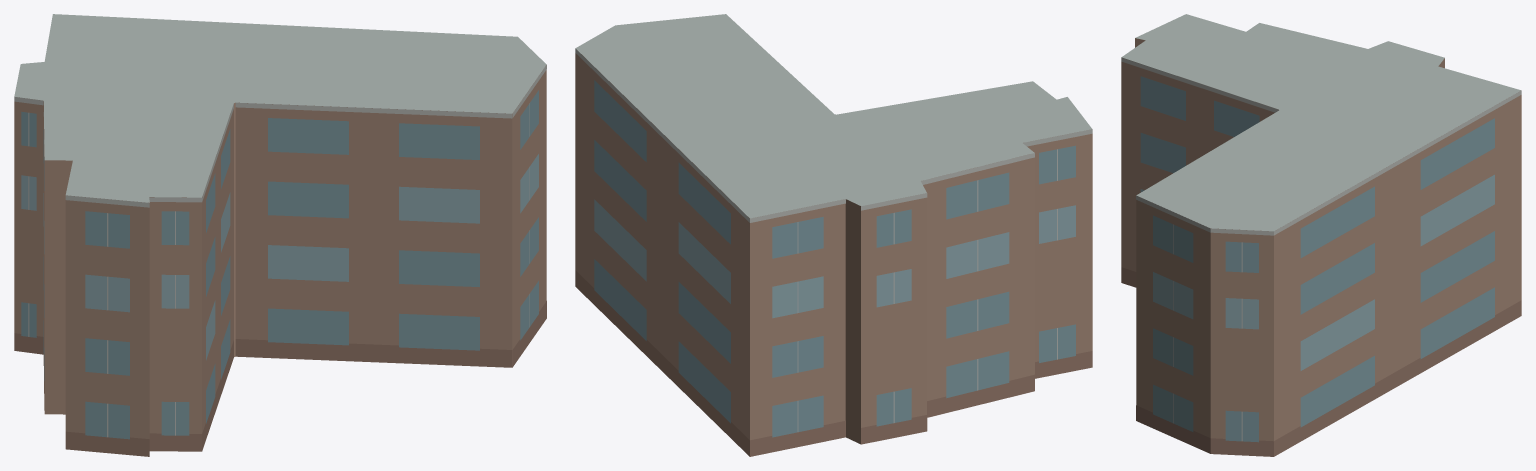
Rendered from survey-upis-32874314.glb.
The picture shows the model from 3 angles, left to right: view 1: azimuth 30°, elevation 25°; view 2: azimuth 150°, elevation 25°; view 3: azimuth 270°, elevation 25°; orthographic projection. The views are drawn at different scales.
Visible parts, largest first — view 1: survey-upis-32874314.tmp; view 2: survey-upis-32874314.tmp; view 3: survey-upis-32874314.tmp.
Part boxes in pixels (left/top/right/bottom): survey-upis-32874314.tmp: left=14, top=14, right=546, bottom=456; survey-upis-32874314.tmp: left=575, top=14, right=1092, bottom=456; survey-upis-32874314.tmp: left=1121, top=14, right=1521, bottom=456.
Size of the model in its own units: 26.67 by 12.9 by 20.76.
